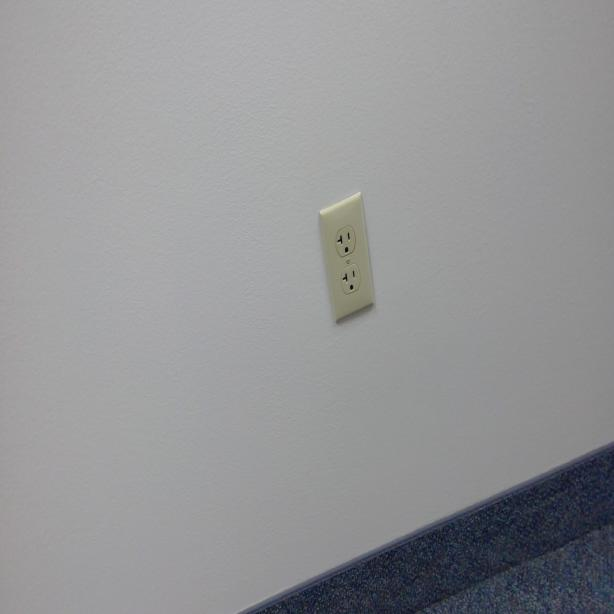typeb: (336, 226, 354, 258), (342, 267, 358, 294)
